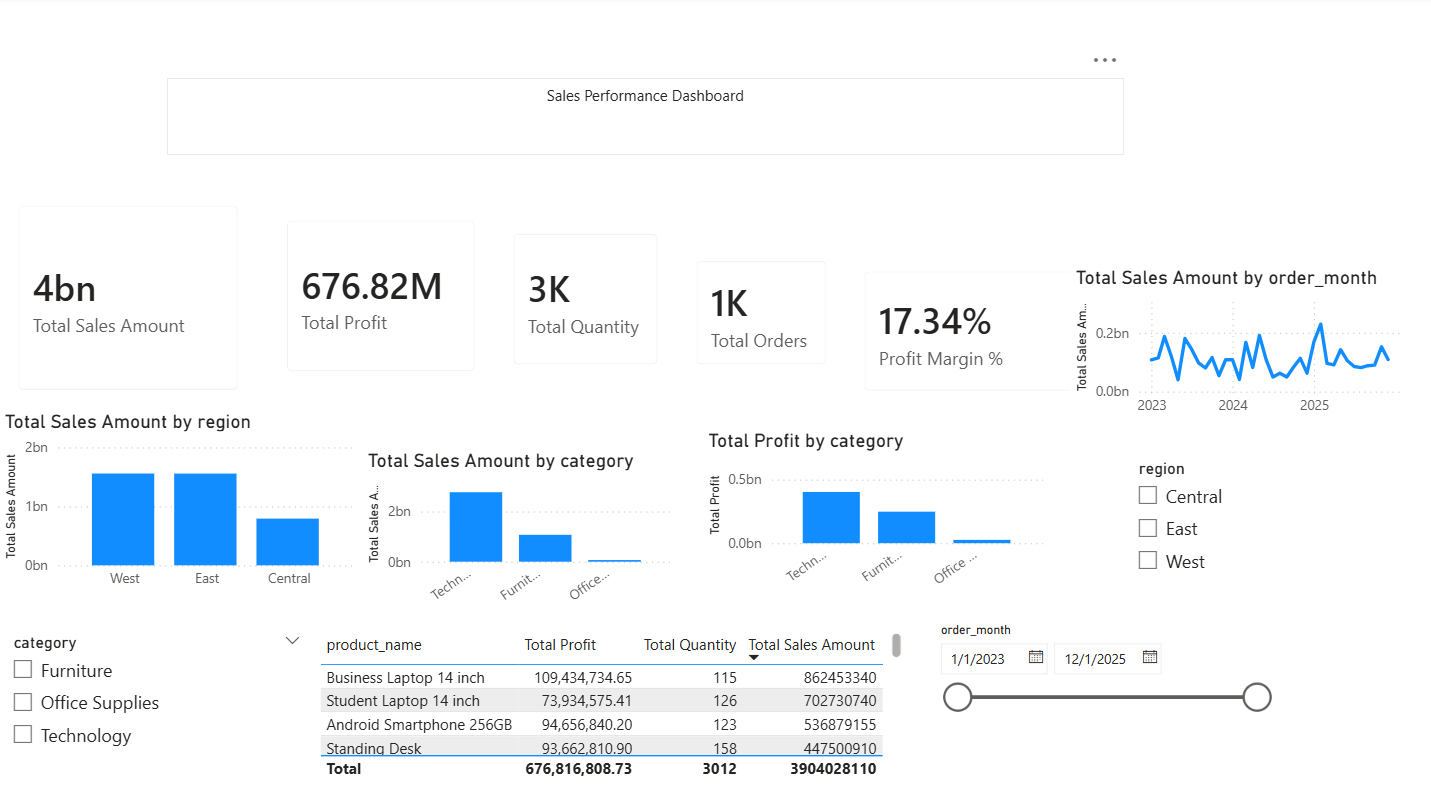

Layout of this report page (visuals, bound fields, positions):
{"tool":"powerbi","page":{"name":"Page 1","canvas":[1280,720],"ordinal":0},"visuals":[{"type":"cardVisual","fields":{"Data":["sales.Total Sales Amount"]},"box":[0,178.7,229.3,198.7],"z":0},{"type":"cardVisual","fields":{"Data":["sales.Total Profit"]},"box":[238.7,192,201.3,168],"z":1000},{"type":"cardVisual","fields":{"Data":["sales.Total Quantity"]},"box":[440,204,162.7,150.7],"z":2000},{"type":"cardVisual","fields":{"Data":["sales.Total Orders"]},"box":[602.7,228,149.3,126.7],"z":3000},{"type":"cardVisual","fields":{"Data":["sales.Profit Margin %"]},"box":[752,237.3,248,140],"z":4000},{"type":"lineChart","fields":{"Y":["sales.Total Sales Amount"],"Category":["sales.order_month"]},"box":[952.4,249.5,300.5,141.7],"z":5000},{"type":"clusteredColumnChart","fields":{"Category":["sales.category"],"Y":["sales.Total Sales Amount"]},"box":[323.2,412,279.7,149.3],"z":6000},{"type":"clusteredColumnChart","fields":{"Category":["sales.category"],"Y":["sales.Total Profit"]},"box":[625.5,395,308,151.2],"z":7000},{"type":"clusteredColumnChart","fields":{"Category":["sales.region"],"Y":["sales.Total Sales Amount"]},"box":[0,378,321.3,168.2],"z":8000},{"type":"tableEx","fields":{"Values":["sales.product_name","sales.Total Profit","sales.Total Quantity","sales.Total Sales Amount"]},"box":[279.7,570.7,527.2,139.8],"z":9000},{"type":"slicer","fields":{"Values":["sales.category"]},"box":[0,570.7,279.7,149.3],"z":10000},{"type":"slicer","fields":{"Values":["sales.region"]},"box":[999.7,415.8,279.7,149.3],"z":11000},{"type":"slicer","fields":{"Values":["sales.order_month"]},"box":[823.9,561.3,315.6,149.3],"z":12000},{"type":"textbox","box":[149.3,83.2,850.4,68],"z":13000}]}

Visuals, with their boxes in screenshot pixels (x1, y1, x2, y2), scaled from the page's 1280x720 canvas onto the 1431x790 screenshot:
cardVisual - sales.Total Sales Amount: bbox=(0, 196, 256, 414)
cardVisual - sales.Total Profit: bbox=(267, 211, 492, 395)
cardVisual - sales.Total Quantity: bbox=(492, 224, 674, 389)
cardVisual - sales.Total Orders: bbox=(674, 250, 841, 389)
cardVisual - sales.Profit Margin %: bbox=(841, 260, 1118, 414)
lineChart - sales.Total Sales Amount x sales.order_month: bbox=(1065, 274, 1401, 429)
clusteredColumnChart - sales.category x sales.Total Sales Amount: bbox=(361, 452, 674, 616)
clusteredColumnChart - sales.category x sales.Total Profit: bbox=(699, 433, 1044, 599)
clusteredColumnChart - sales.region x sales.Total Sales Amount: bbox=(0, 415, 359, 599)
tableEx - sales.product_name x sales.Total Profit: bbox=(313, 626, 902, 780)
slicer - sales.category: bbox=(0, 626, 313, 789)
slicer - sales.region: bbox=(1118, 456, 1430, 620)
slicer - sales.order_month: bbox=(921, 616, 1274, 780)
textbox: bbox=(167, 91, 1118, 166)
